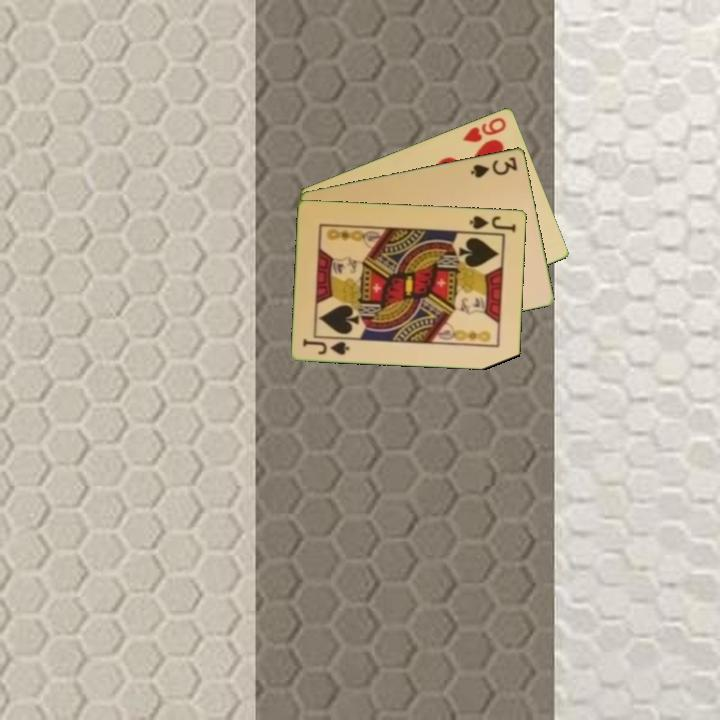3s: (467, 153, 520, 180)
9h: (459, 114, 509, 145)
Js: (466, 212, 519, 235), (300, 334, 352, 357)
